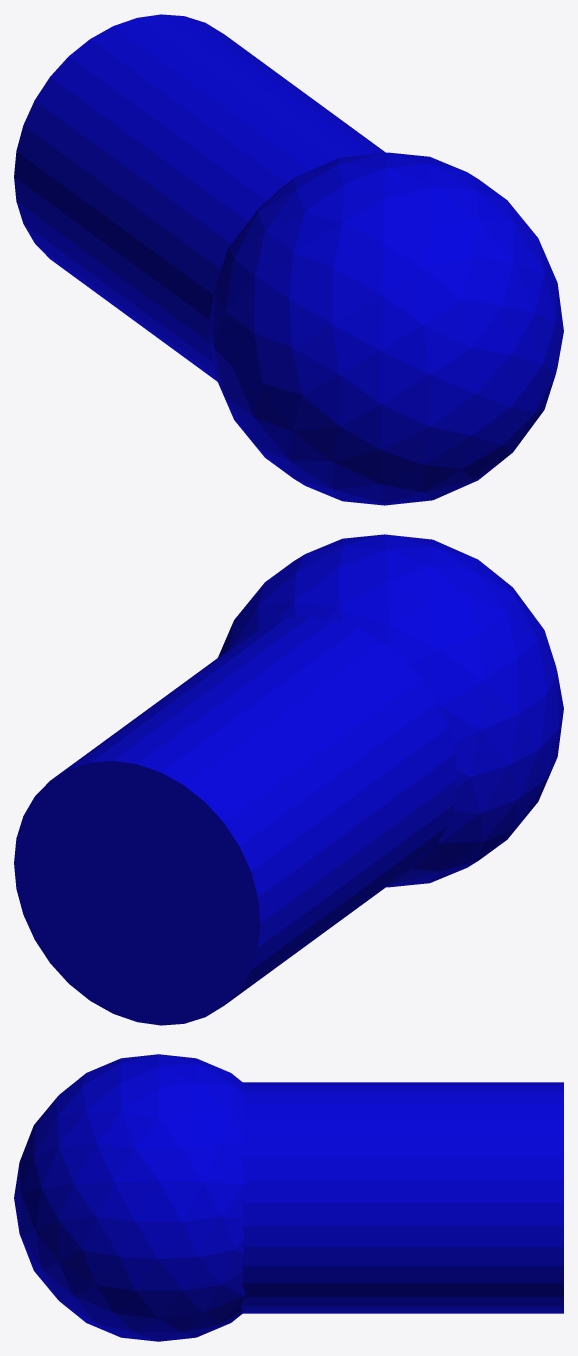
The model's file is petit_bonhomme_bleu.glb.
The picture shows the model from 3 angles, top to bottom: view 1: azimuth 30°, elevation 25°; view 2: azimuth 150°, elevation 25°; view 3: azimuth 270°, elevation 25°; orthographic projection. The views are drawn at different scales.
Parts seen in each view (by area): view 1: world; view 2: world; view 3: world.
Boxes of the visible parts, box(x1,y1,x2,y2) form: world: box(14, 14, 563, 505); world: box(14, 534, 563, 1025); world: box(14, 1054, 563, 1341).
Size of the model in its own units: 1 by 1 by 1.9.
